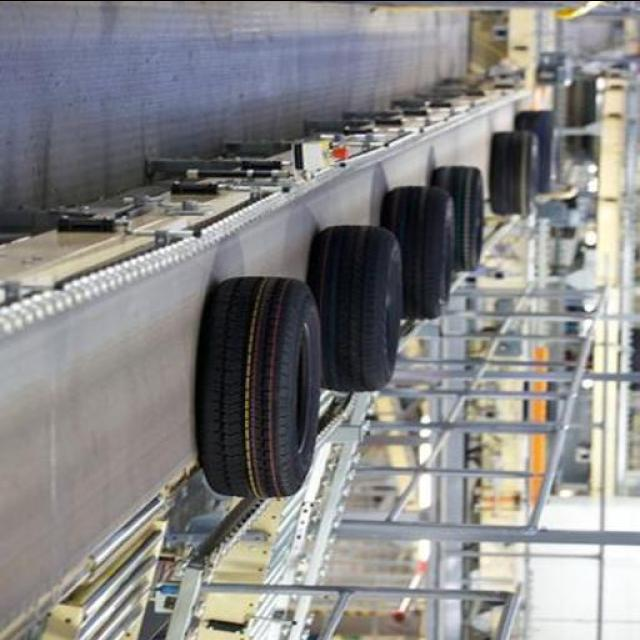conveyor: (0, 77, 549, 640)
